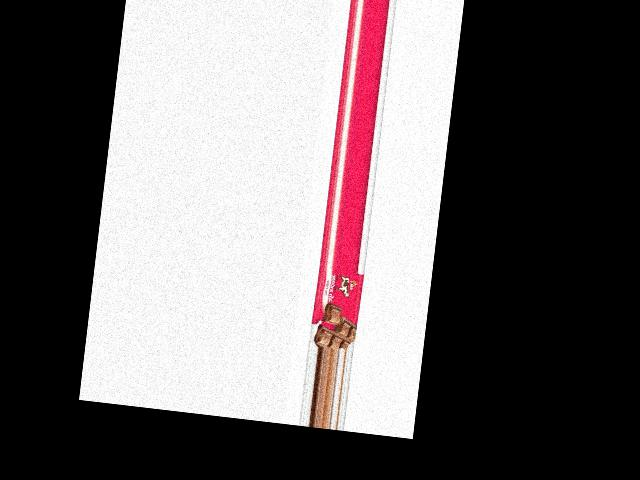chocolate: (309, 267, 363, 350)
